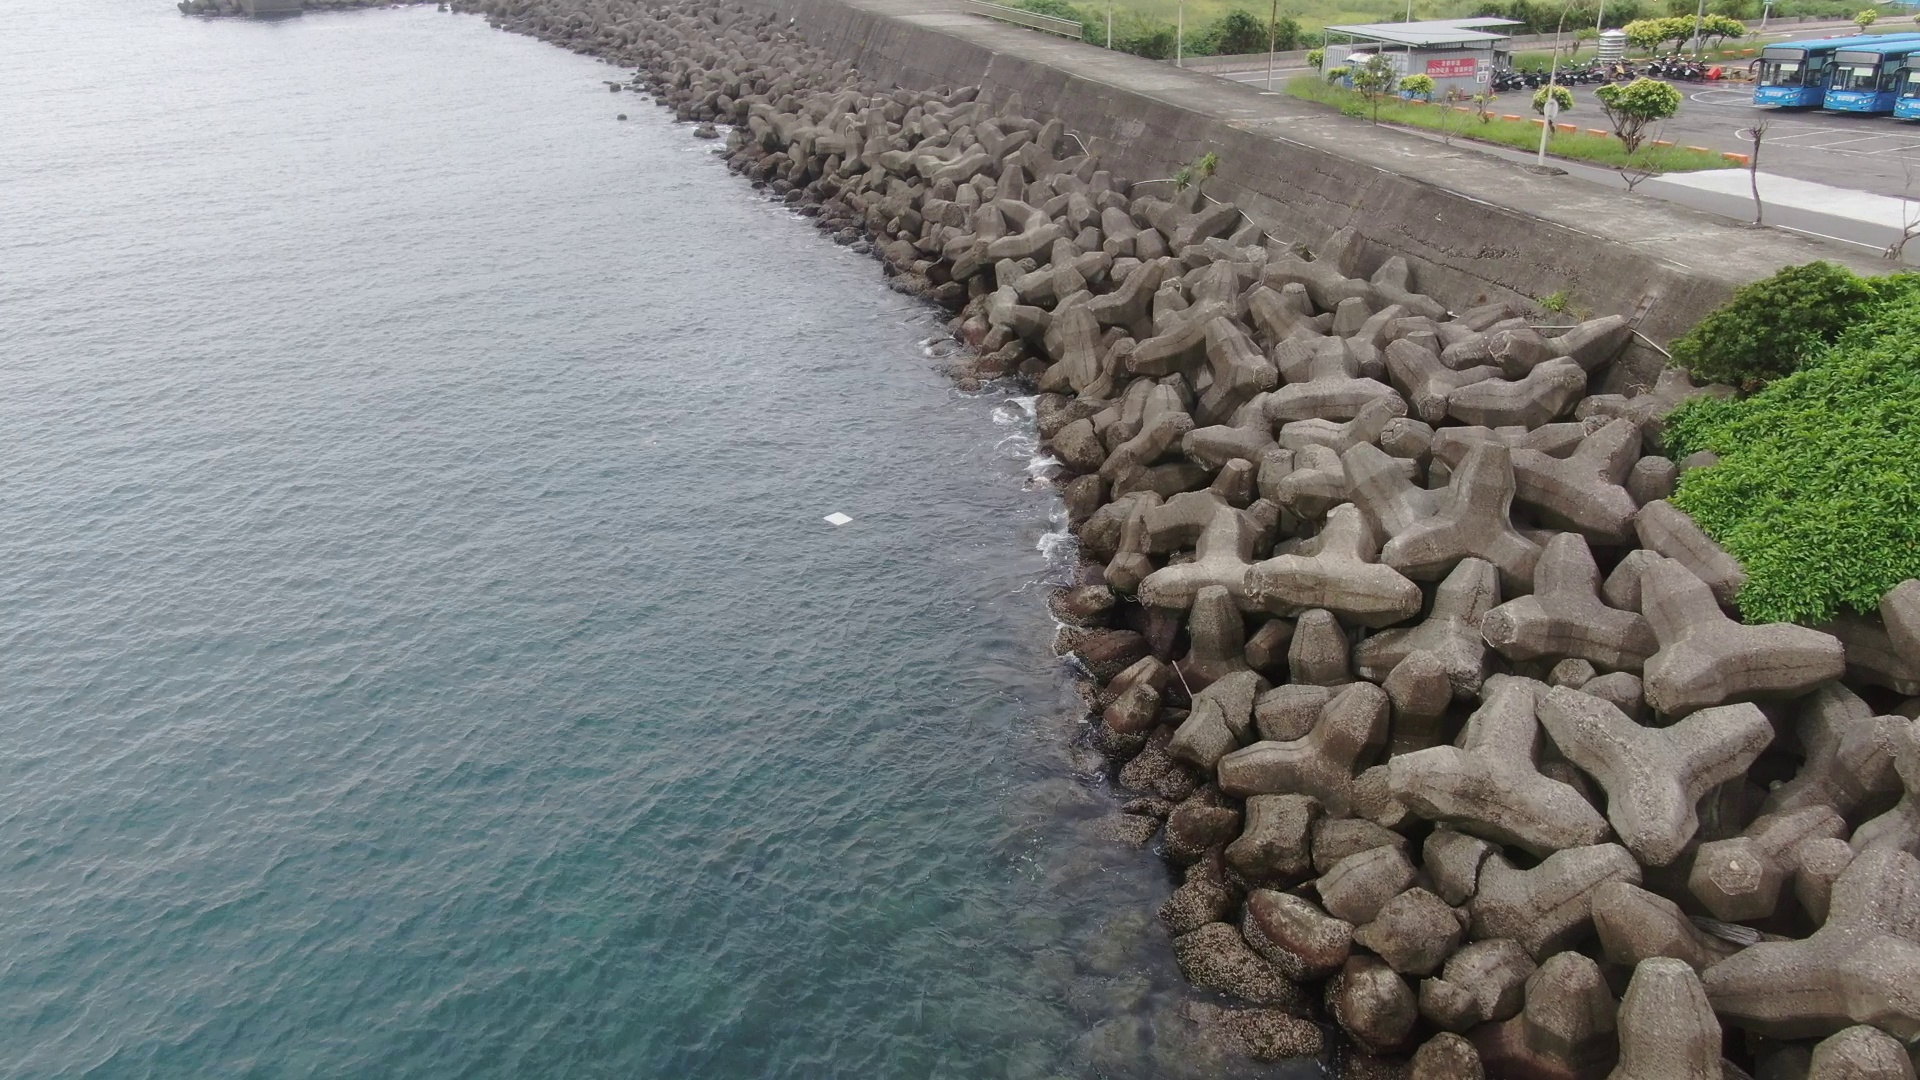garbage: (818, 504, 870, 533)
